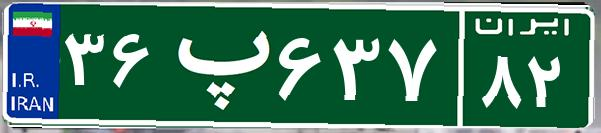2: (525, 38, 570, 115)
3: (330, 28, 385, 110), (57, 26, 110, 107)
6: (273, 28, 330, 110), (110, 28, 158, 105)
7: (385, 28, 445, 110)
8: (475, 38, 525, 113)
پ: (158, 15, 273, 115)
